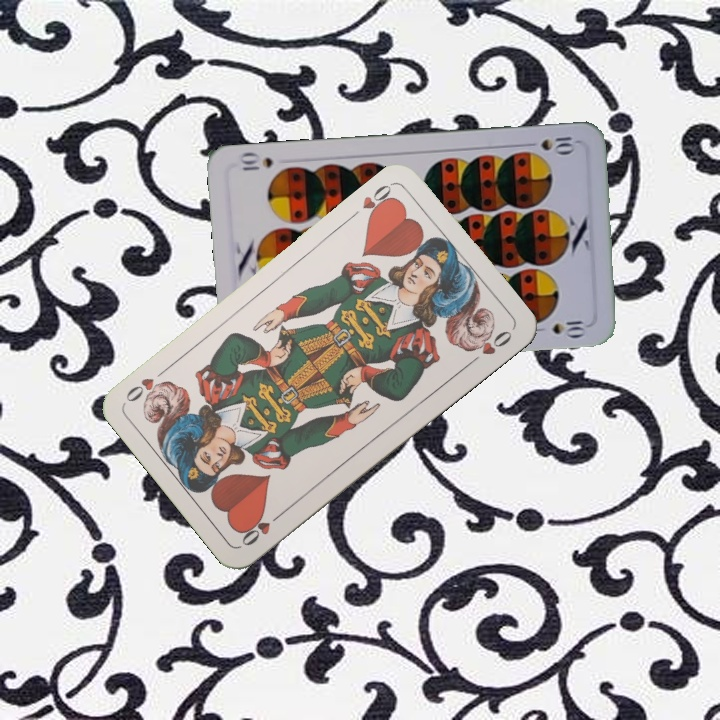HO: (237, 507, 287, 549), (358, 178, 399, 223)
S10: (520, 133, 579, 155)
